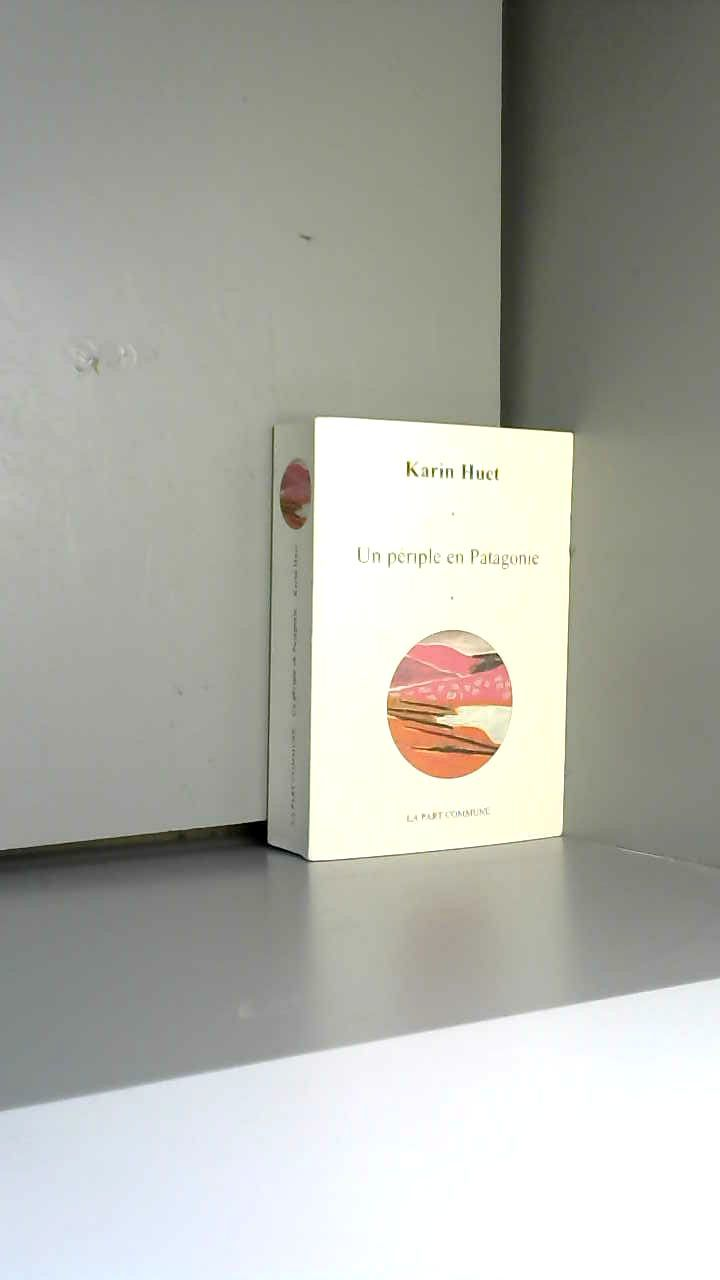book: (232, 384, 620, 906)
